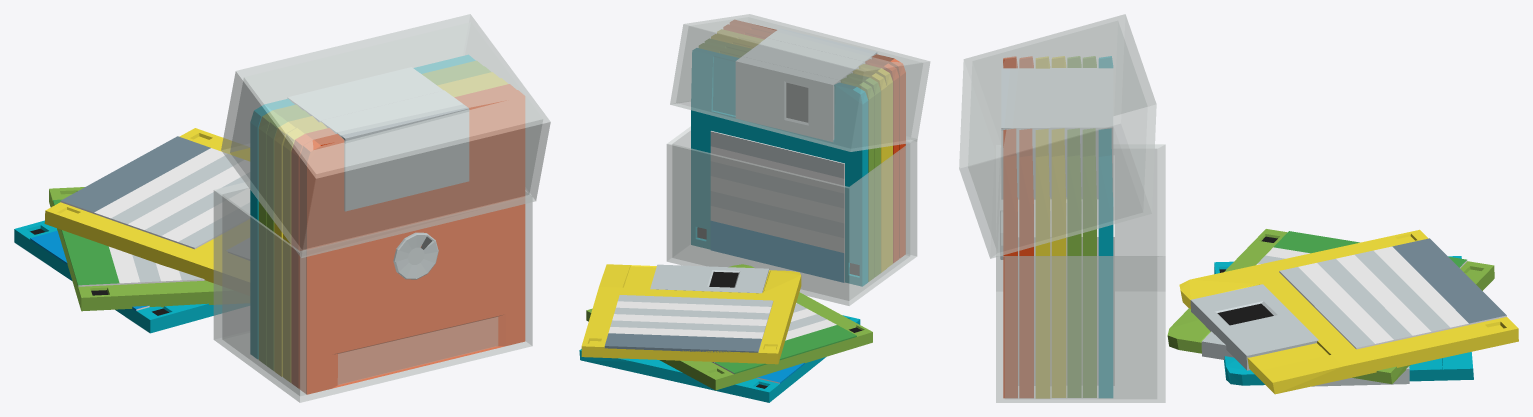
File: floppy-disks.glb
3 views of the same model, side by side, from view 1: azimuth 30°, elevation 25°; view 2: azimuth 150°, elevation 25°; view 3: azimuth 270°, elevation 25° (orthographic). The views are drawn at different scales.
Visible parts, largest first — view 1: group722650972, group1684982091, group2092959116, group722622459, group293510104, group319395727, group60828802, group1759808986, group1311321326, group1670596807, group148127374, group734119244; view 2: group1759808986, group2092959116, group1684982091, group722622459, group293510104, group148127374, group722650972, group734119244, group60828802, group319395727, group1670596807, group1311321326; view 3: group1684982091, group722622459, group2092959116, group722650972, group60828802, group1759808986, group293510104, group1311321326, group319395727, group734119244, group1670596807, group148127374.
Part boxes in pixels (x1,y1,x2,y2): group722650972: (300,90,525,394); group1684982091: (221,14,550,257); group2092959116: (213,181,532,402); group722622459: (44,128,249,285); group293510104: (49,187,222,311); group319395727: (274,72,498,376); group60828802: (291,84,516,388); group1759808986: (250,55,475,358); group1311321326: (283,78,507,382); group1670596807: (266,66,490,370); group148127374: (14,220,222,333); group734119244: (258,61,483,364); group1759808986: (691,48,868,286); group2092959116: (666,126,917,305); group1684982091: (670,14,930,151); group722622459: (581,264,801,364); group293510104: (586,264,872,390); group148127374: (579,315,860,402); group722650972: (730,20,905,257); group734119244: (699,43,874,281); group60828802: (723,24,899,262); group319395727: (711,34,886,272); group1670596807: (705,38,880,276); group1311321326: (717,29,892,267); group1684982091: (959,14,1156,258); group722622459: (1179,229,1518,394); group2092959116: (996,144,1165,402); group722650972: (1000,56,1019,398); group60828802: (1017,56,1035,397); group1759808986: (1097,56,1114,397); group293510104: (1167,229,1494,384); group1311321326: (1034,56,1051,398); group319395727: (1050,56,1067,397); group734119244: (1082,56,1098,397); group1670596807: (1067,56,1082,397); group148127374: (1214,256,1473,386).
Bounding box in the file's own units: 4.71 × 3.88 × 6.92.
